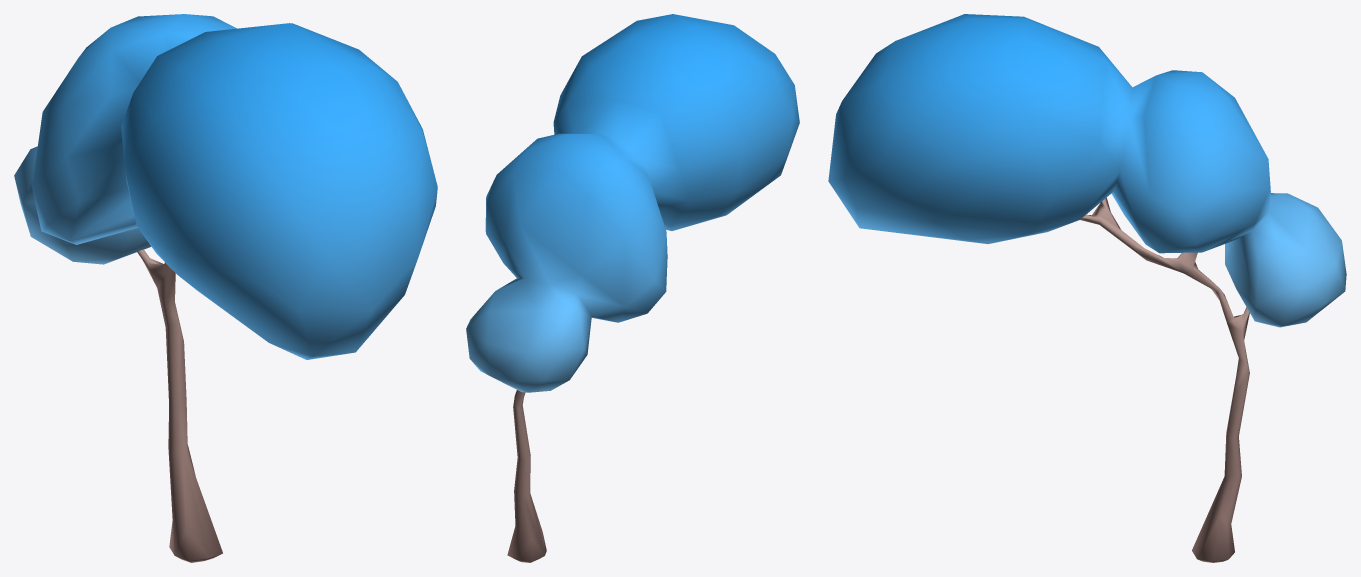
The model's file is Tree03_S_Blue.fbx.
3 renders of one model, left to right at view 1: azimuth 30°, elevation 25°; view 2: azimuth 150°, elevation 25°; view 3: azimuth 270°, elevation 25°, orthographic. The views are drawn at different scales.
Parts seen in each view (by area): view 1: Tree03_S_Blue; view 2: Tree03_S_Blue; view 3: Tree03_S_Blue.
Part boxes in pixels (x1,y1,x2,y2): Tree03_S_Blue: (14, 14, 437, 562); Tree03_S_Blue: (466, 14, 799, 562); Tree03_S_Blue: (828, 14, 1346, 562).
Bounding box in the file's own units: 2.07 × 4.84 × 4.47.
